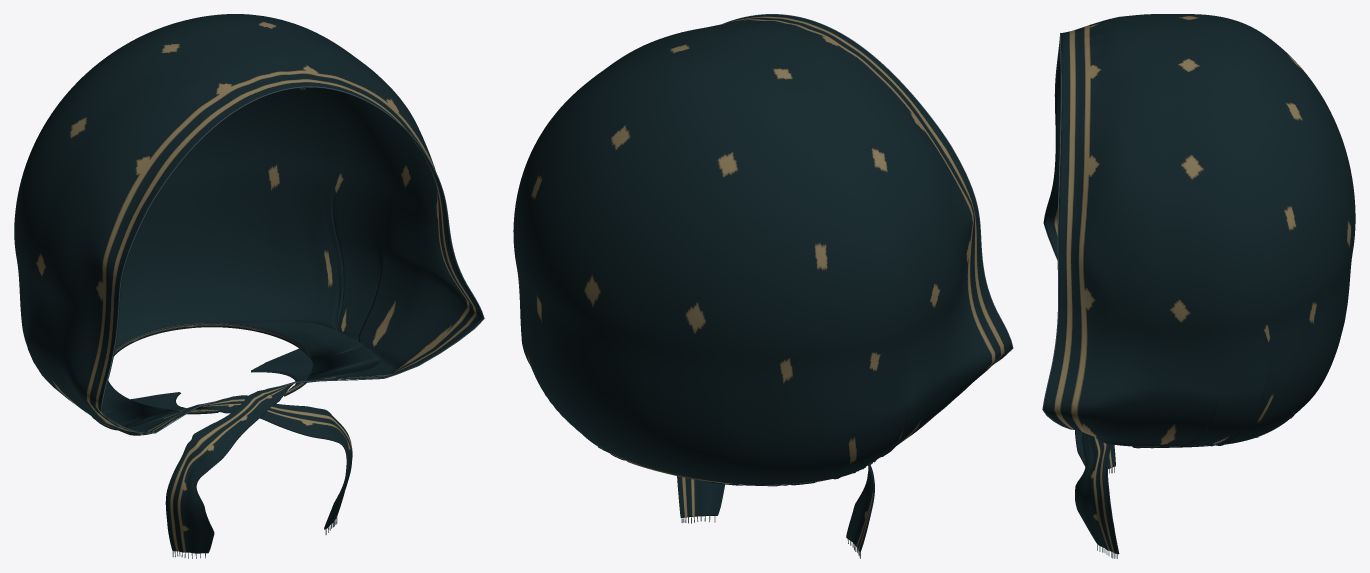
Rendered from Feminine-side-sweep-tshirt-pashmina250-headgear.glb.
3 renders of one model, left to right at view 1: azimuth 30°, elevation 25°; view 2: azimuth 150°, elevation 25°; view 3: azimuth 270°, elevation 25°, orthographic. The views are drawn at different scales.
Visible parts, largest first — view 1: 226 headgear / Headwear / continuous woven pashmina239, 226 headgear / Headwear / face edge239; view 2: 226 headgear / Headwear / continuous woven pashmina239, 226 headgear / Headwear / face edge239; view 3: 226 headgear / Headwear / continuous woven pashmina239, 226 headgear / Headwear / face edge239.
Boxes of the visible parts, box(x1,y1,x2,y2) form: 226 headgear / Headwear / continuous woven pashmina239: box(14, 14, 483, 553); 226 headgear / Headwear / face edge239: box(100, 86, 484, 433); 226 headgear / Headwear / continuous woven pashmina239: box(513, 14, 1012, 552); 226 headgear / Headwear / face edge239: box(723, 14, 1013, 363); 226 headgear / Headwear / continuous woven pashmina239: box(1043, 14, 1355, 554); 226 headgear / Headwear / face edge239: box(1042, 33, 1073, 429).
Bounding box in the file's own units: 1.15 × 1.39 × 0.8118.
Materials: 3 (1 with a texture image).
